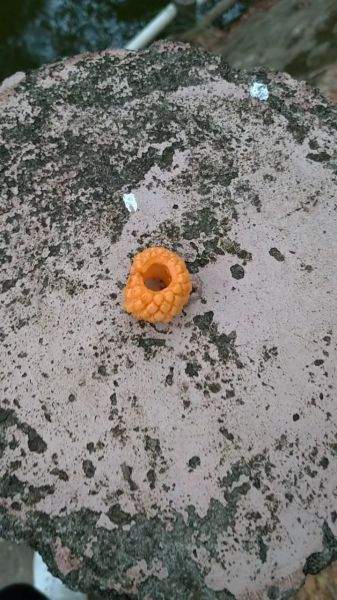eggs: (119, 242, 198, 327)
